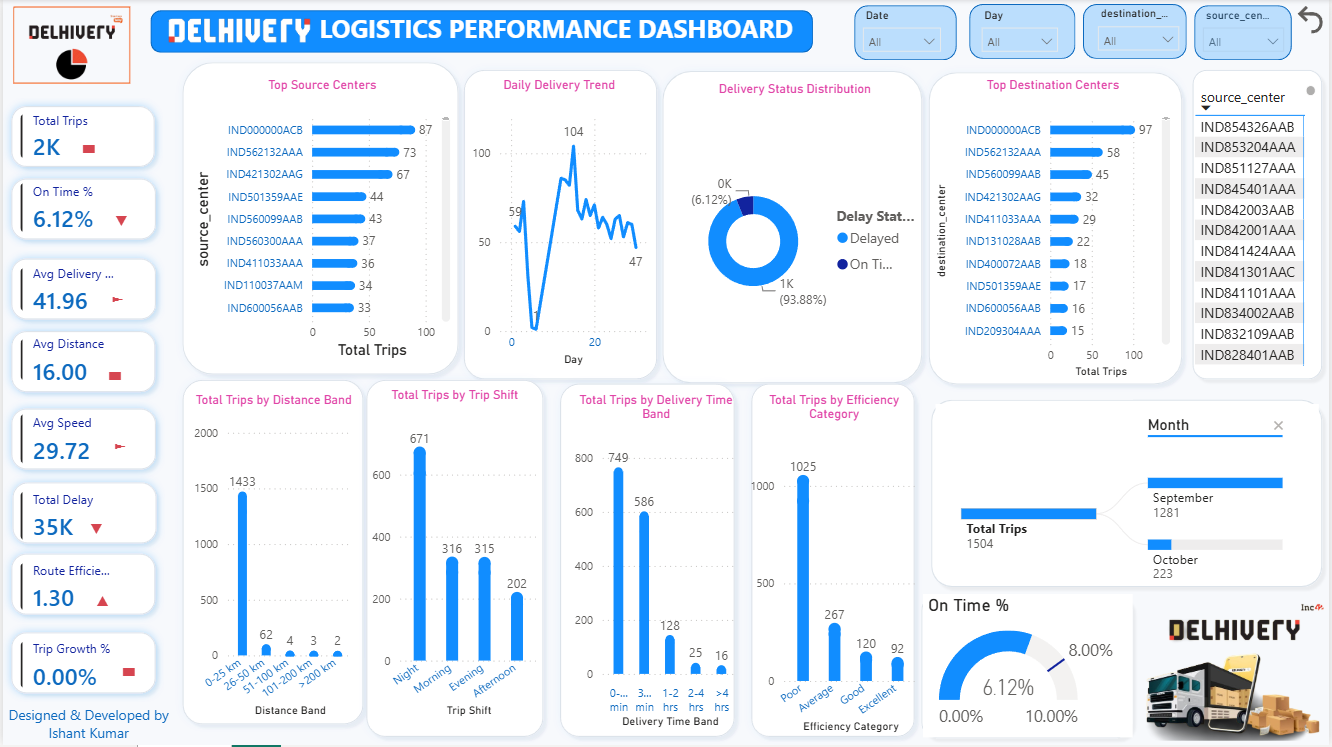

What the dashboard file says about the page in this screenshot:
{"tool":"powerbi","page":{"name":"Page 1","canvas":[1280,720],"ordinal":0},"visuals":[{"type":"shape","box":[0,242.5,155.6,74.8],"z":0},{"type":"shape","box":[0,312.5,155,75],"z":1000},{"type":"shape","box":[0,387.3,155.6,74.8],"z":2000},{"type":"shape","box":[0.8,458.8,155,75],"z":3000},{"type":"shape","box":[-0.3,527.1,155,75],"z":4000},{"type":"shape","box":[0,165.3,155.6,74.8],"z":5000},{"type":"shape","box":[0.1,602.9,155.3,75],"z":6000},{"type":"shape","box":[0,95.3,154.4,74.8],"z":7000},{"type":"shape","box":[436.7,60.3,202.7,314.9],"z":8000},{"type":"shape","box":[165.3,53.1,282.3,317.3],"z":9000},{"type":"shape","box":[165.3,359.5,190.6,348.7],"z":10000},{"type":"shape","box":[885.5,62.7,260.6,317.3],"z":11000},{"type":"shape","box":[628.6,61.5,266.6,317.3],"z":12000},{"type":"shape","box":[342.6,359.5,187,360.7],"z":13000},{"type":"shape","box":[529.6,363.1,184.6,357.1],"z":14000},{"type":"shape","box":[714.2,363.1,173.7,357.1],"z":15000},{"type":"shape","box":[141.9,10.4,639.4,41],"z":16000},{"type":"shape","box":[821.8,6,98.9,53.1],"z":17000},{"type":"cardVisual","fields":{"Data":["measures_1.Avg Delivery Time"]},"box":[0,242.5,141.2,76],"z":18000},{"type":"cardVisual","fields":{"Data":["measures_1.Avg Distance"]},"box":[0,311.3,137.5,74.8],"z":19000},{"type":"cardVisual","fields":{"Data":["measures_1.Avg Speed"]},"box":[0,383.6,139.9,82],"z":20000},{"type":"cardVisual","fields":{"Data":["measures_1.Total Delay"]},"box":[0,458.4,139.4,81.9],"z":21000},{"type":"cardVisual","fields":{"Data":["measures_1.Route Efficiency %"]},"box":[0,527.2,133.9,80.8],"z":22000},{"type":"cardVisual","fields":{"Data":["measures_1.On Time %"]},"box":[0,160.5,138.7,82],"z":23000},{"type":"cardVisual","fields":{"Data":["measures_1.Trip Growth %"]},"box":[0,603.2,138.2,79.5],"z":24000},{"type":"cardVisual","fields":{"Data":["measures_1.Total Trips"]},"box":[0,94.1,137.5,77.2],"z":25000},{"type":"lineChart","title":"Daily Delivery Trend","fields":{"Category":["delhivery_fact.od_end_time.Variation.Date Hierarchy.Day"],"Y":["measures_1.Total Trips"]},"box":[447.6,76,178.6,282.3],"z":26000},{"type":"donutChart","title":"Delivery Status Distribution","fields":{"Category":["delhivery_fact.Delay Status"],"Y":["measures_1.Total Trips"]},"box":[639.4,79.6,249.7,283.5],"z":27000},{"type":"barChart","title":"Top Source Centers","fields":{"Y":["measures_1.Total Trips"],"Category":["delhivery_fact.source_center"]},"box":[179.8,76,257,276.3],"z":28000},{"type":"barChart","title":"Top Destination Centers","fields":{"Y":["measures_1.Total Trips"],"Category":["delhivery_fact.destination_center"]},"box":[895.2,76,236.5,294.4],"z":29000},{"type":"columnChart","fields":{"Category":["delhivery_fact.Distance Band"],"Y":["measures_1.Total Trips"]},"box":[179.8,380,162.9,317.3],"z":30000},{"type":"columnChart","fields":{"Category":["delhivery_fact.Trip Shift"],"Y":["measures_1.Total Trips"]},"box":[351.1,375.2,170.1,322.1],"z":31000},{"type":"columnChart","fields":{"Y":["measures_1.Total Trips"],"Category":["delhivery_fact.Delivery Time Band"]},"box":[546.5,380,167.7,328.2],"z":32000},{"type":"columnChart","fields":{"Y":["measures_1.Total Trips"],"Category":["delhivery_fact.Efficiency Category"]},"box":[716.6,380,171.3,333],"z":33000},{"type":"shape","box":[889.1,380,390.9,194.2],"z":34000},{"type":"shape","box":[1141.2,61.8,138.7,312.5],"z":35000},{"type":"pivotTable","fields":{"Rows":["delhivery_fact.source_center"]},"box":[1146.1,78.7,125.5,279.9],"z":36000},{"type":"decompositionTreeVisual","fields":{"Analyze":["measures_1.Total Trips"],"ExplainBy":["delhivery_fact.od_end_time.Variation.Date Hierarchy.Month"]},"box":[895.2,386.1,380,230.4],"z":37000},{"type":"image","box":[6,7.2,120.6,74.8],"z":38000},{"type":"slicer","fields":{"Values":["Date.Date"]},"box":[823,6,89.3,56.7],"z":39000},{"type":"shape","box":[932.8,4.8,102.5,53.1],"z":40000},{"type":"slicer","fields":{"Values":["delhivery_fact.source_center"]},"box":[1150.9,6,92.9,56.7],"z":41000},{"type":"shape","box":[1042.6,4.8,100.1,53.1],"z":42000},{"type":"shape","box":[1149.7,6,94.1,53.1],"z":43000},{"type":"slicer","fields":{"Values":["Date.Day"]},"box":[937.6,6,88.1,56.7],"z":44000},{"type":"slicer","fields":{"Values":["delhivery_fact.destination_center"]},"box":[1049.8,4.8,92.9,56.7],"z":45000},{"type":"image","box":[153,10.4,147.2,41],"z":46000},{"type":"textbox","box":[299.9,6.8,489.8,42.2],"z":47000},{"type":"shape","box":[54.3,126.7,56.7,32.6],"z":48000},{"type":"shape","box":[85.7,197.9,56.7,32.6],"z":49000},{"type":"shape","box":[82,266.6,56.7,44.6],"z":50000},{"type":"shape","box":[79.6,346.2,56.7,32.6],"z":51000},{"type":"shape","box":[84.5,415,56.7,32.6],"z":52000},{"type":"shape","box":[61.5,494.6,56.7,32.6],"z":53000},{"type":"shape","box":[67.6,564.6,56.7,32.6],"z":54000},{"type":"shape","box":[92.9,632.2,56.7,32.6],"z":55000},{"type":"image","box":[1096.7,574.3,183.4,146],"z":56000},{"type":"shape","box":[879.5,568.2,217.2,152],"z":57000},{"type":"gauge","fields":{"Y":["measures_1.On Time %"]},"box":[887.9,574.3,202.7,138.7],"z":58000},{"type":"actionButton","box":[1243.8,0,36.2,39.8],"z":59000},{"type":"shape","box":[0,678,165.3,42.2],"z":60000}]}

Visuals, with their boxes in screenshot pixels (x1, y1, x2, y2), scaled from the page's 1280x720 canvas onto the 1332x747 screenshot:
shape: bbox=[0, 252, 162, 329]
shape: bbox=[0, 324, 161, 402]
shape: bbox=[0, 402, 162, 479]
shape: bbox=[1, 476, 162, 554]
shape: bbox=[0, 547, 161, 625]
shape: bbox=[0, 171, 162, 249]
shape: bbox=[0, 626, 162, 703]
shape: bbox=[0, 99, 161, 176]
shape: bbox=[454, 63, 665, 389]
shape: bbox=[172, 55, 466, 384]
shape: bbox=[172, 373, 370, 735]
shape: bbox=[921, 65, 1193, 394]
shape: bbox=[654, 64, 932, 393]
shape: bbox=[357, 373, 551, 746]
shape: bbox=[551, 377, 743, 746]
shape: bbox=[743, 377, 924, 746]
shape: bbox=[148, 11, 813, 53]
shape: bbox=[855, 6, 958, 61]
cardVisual - measures_1.Avg Delivery Time: bbox=[0, 252, 147, 330]
cardVisual - measures_1.Avg Distance: bbox=[0, 323, 143, 401]
cardVisual - measures_1.Avg Speed: bbox=[0, 398, 146, 483]
cardVisual - measures_1.Total Delay: bbox=[0, 476, 145, 561]
cardVisual - measures_1.Route Efficiency %: bbox=[0, 547, 139, 631]
cardVisual - measures_1.On Time %: bbox=[0, 167, 144, 252]
cardVisual - measures_1.Trip Growth %: bbox=[0, 626, 144, 708]
cardVisual - measures_1.Total Trips: bbox=[0, 98, 143, 178]
"Daily Delivery Trend" lineChart: bbox=[466, 79, 652, 372]
"Delivery Status Distribution" donutChart: bbox=[665, 83, 925, 377]
"Top Source Centers" barChart: bbox=[187, 79, 455, 366]
"Top Destination Centers" barChart: bbox=[932, 79, 1178, 384]
columnChart - delhivery_fact.Distance Band x measures_1.Total Trips: bbox=[187, 394, 357, 723]
columnChart - delhivery_fact.Trip Shift x measures_1.Total Trips: bbox=[365, 389, 542, 723]
columnChart - measures_1.Total Trips x delhivery_fact.Delivery Time Band: bbox=[569, 394, 743, 735]
columnChart - measures_1.Total Trips x delhivery_fact.Efficiency Category: bbox=[746, 394, 924, 740]
shape: bbox=[925, 394, 1331, 596]
shape: bbox=[1188, 64, 1331, 388]
pivotTable - delhivery_fact.source_center: bbox=[1193, 82, 1323, 372]
decompositionTreeVisual - measures_1.Total Trips x delhivery_fact.od_end_time.Variation.Date Hierarchy.Month: bbox=[932, 401, 1327, 640]
image: bbox=[6, 7, 132, 85]
slicer - Date.Date: bbox=[856, 6, 949, 65]
shape: bbox=[971, 5, 1077, 60]
slicer - delhivery_fact.source_center: bbox=[1198, 6, 1294, 65]
shape: bbox=[1085, 5, 1189, 60]
shape: bbox=[1196, 6, 1294, 61]
slicer - Date.Day: bbox=[976, 6, 1067, 65]
slicer - delhivery_fact.destination_center: bbox=[1092, 5, 1189, 64]
image: bbox=[159, 11, 312, 53]
textbox: bbox=[312, 7, 822, 51]
shape: bbox=[57, 131, 116, 165]
shape: bbox=[89, 205, 148, 239]
shape: bbox=[85, 277, 144, 323]
shape: bbox=[83, 359, 142, 393]
shape: bbox=[88, 431, 147, 464]
shape: bbox=[64, 513, 123, 547]
shape: bbox=[70, 586, 129, 620]
shape: bbox=[97, 656, 156, 690]
image: bbox=[1141, 596, 1331, 746]
shape: bbox=[915, 590, 1141, 746]
gauge - measures_1.On Time %: bbox=[924, 596, 1135, 740]
actionButton: bbox=[1294, 0, 1331, 41]
shape: bbox=[0, 703, 172, 746]
